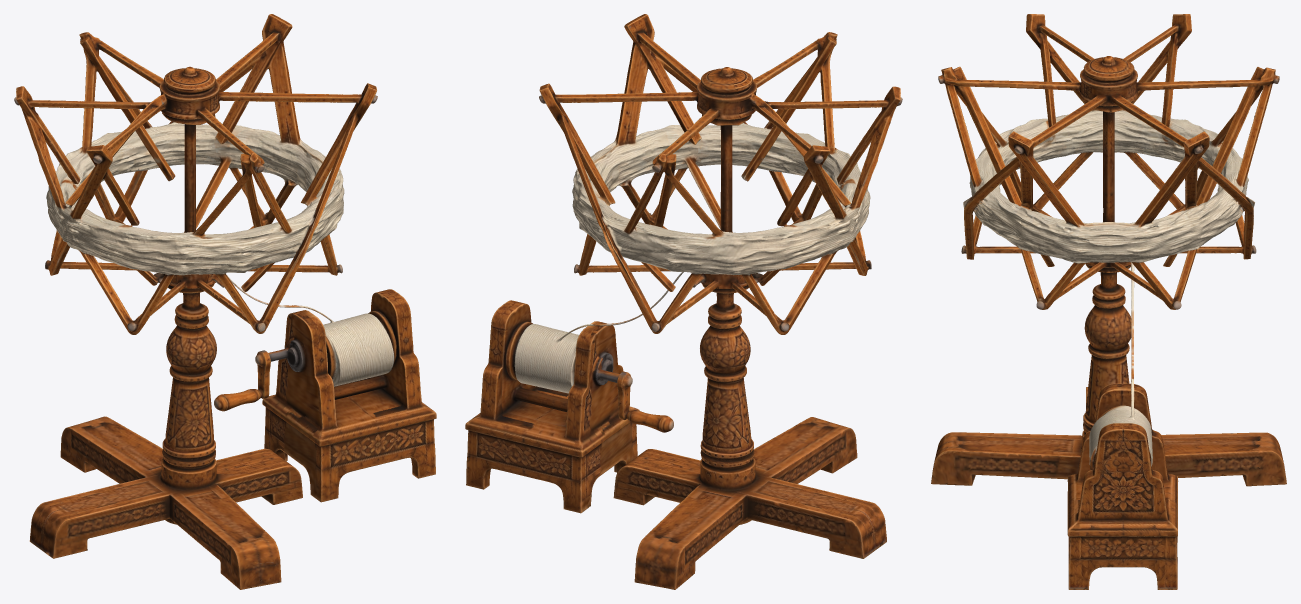
Rendered from ip_sarma.glb.
The picture shows the model from 3 angles, left to right: view 1: azimuth 30°, elevation 25°; view 2: azimuth 150°, elevation 25°; view 3: azimuth 270°, elevation 25°; orthographic projection. The views are drawn at different scales.
Bounding box in the file's own units: 1.66 × 1.9 × 1.43.
1 material, 1 textured.
